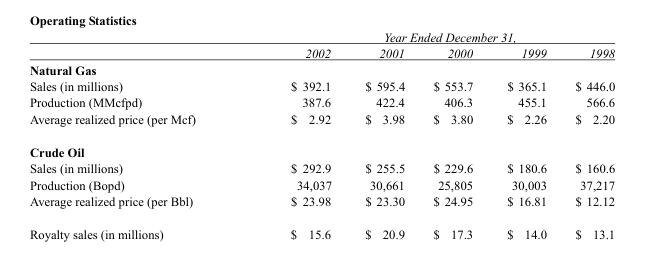table: (28, 29, 614, 240)
table column: (28, 29, 242, 240), (242, 29, 347, 240), (347, 29, 418, 240), (418, 29, 489, 240), (489, 29, 560, 240), (560, 29, 614, 240)
table column header: (28, 29, 614, 61)
table projected row header: (28, 135, 614, 159), (28, 61, 614, 77)
table row: (28, 110, 614, 135), (28, 192, 614, 217), (28, 135, 614, 159), (28, 217, 614, 240), (28, 44, 614, 61), (28, 77, 614, 94), (28, 159, 614, 176), (28, 61, 614, 77), (28, 94, 614, 110), (28, 176, 614, 192), (28, 29, 614, 44)
table spanning cell: (242, 29, 614, 44)
